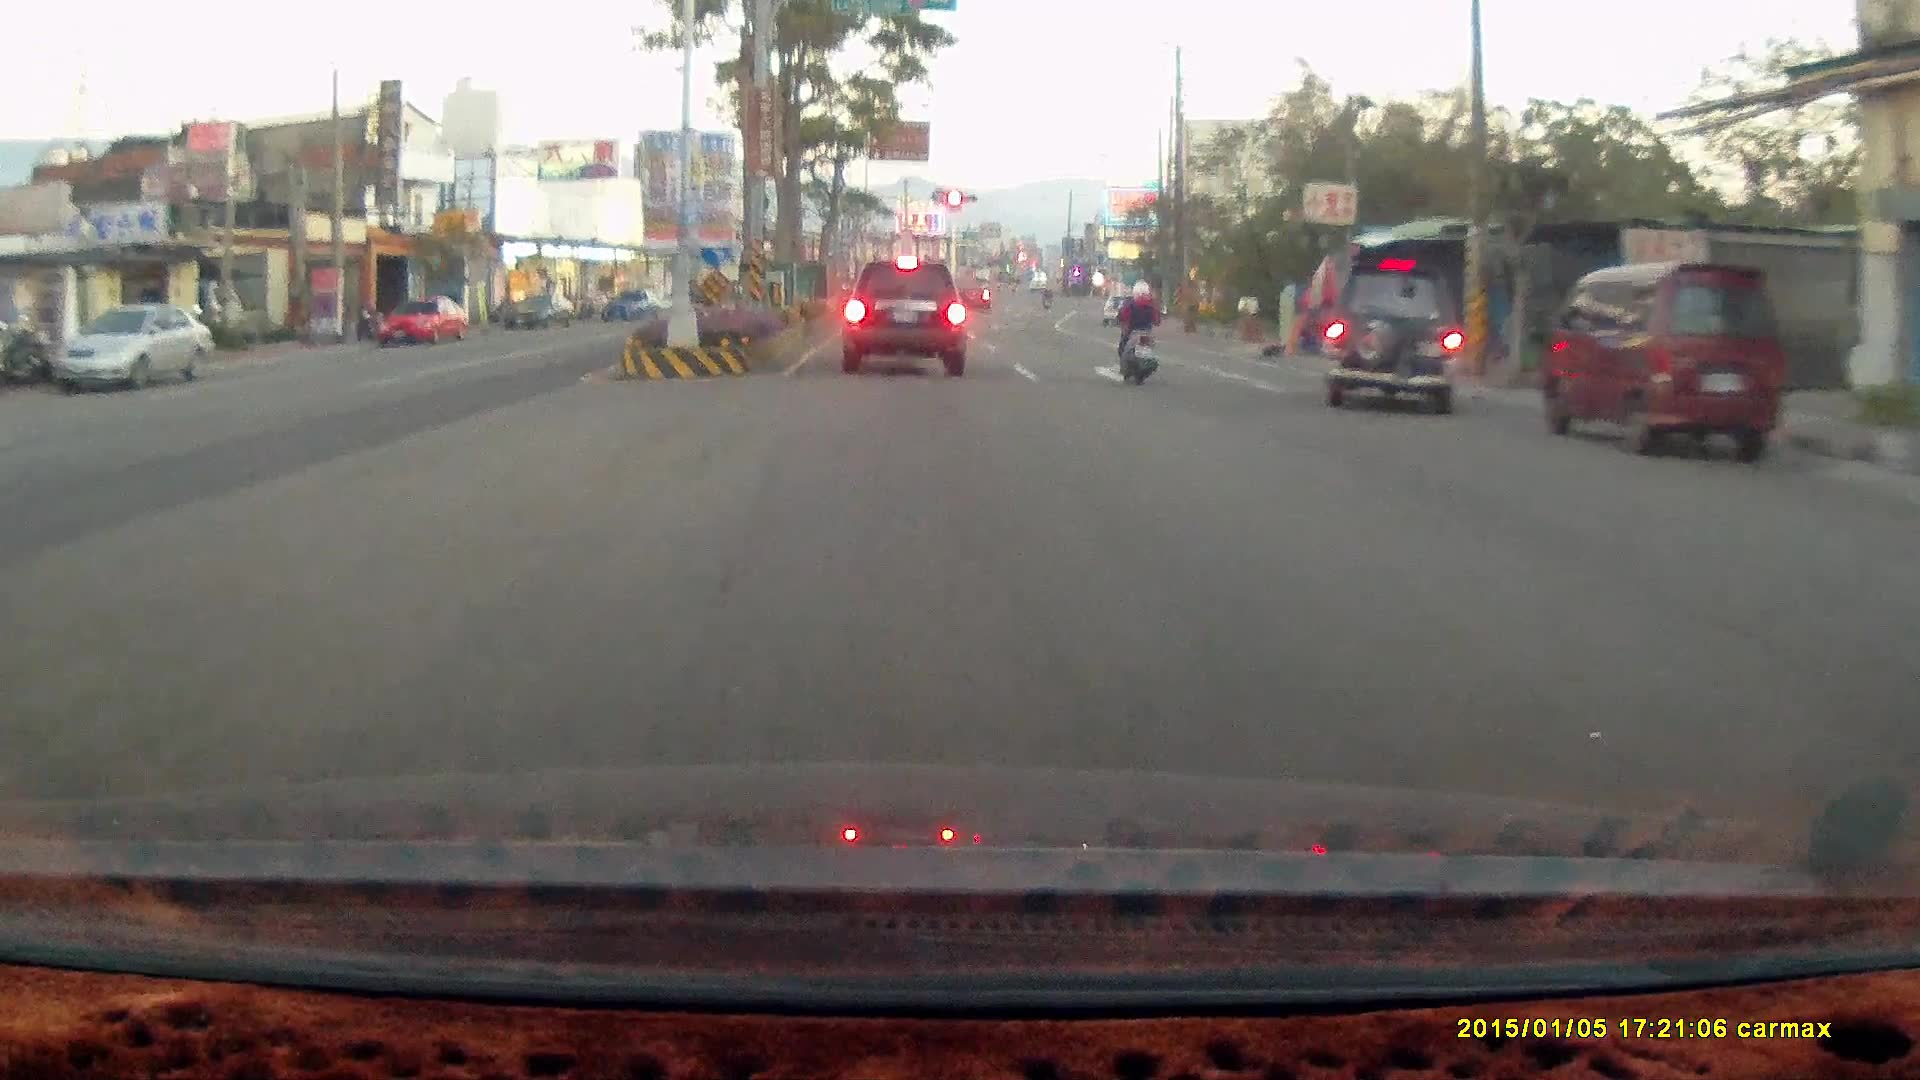rider: (1114, 277, 1164, 384)
vehicle: (1531, 257, 1781, 461), (1540, 257, 1787, 458), (1322, 257, 1477, 415), (1318, 256, 1462, 416), (51, 304, 215, 398), (841, 259, 967, 378), (50, 303, 213, 393), (1896, 493, 1920, 836), (1883, 528, 1920, 690), (381, 294, 472, 348), (375, 294, 468, 345), (1102, 293, 1149, 327)
